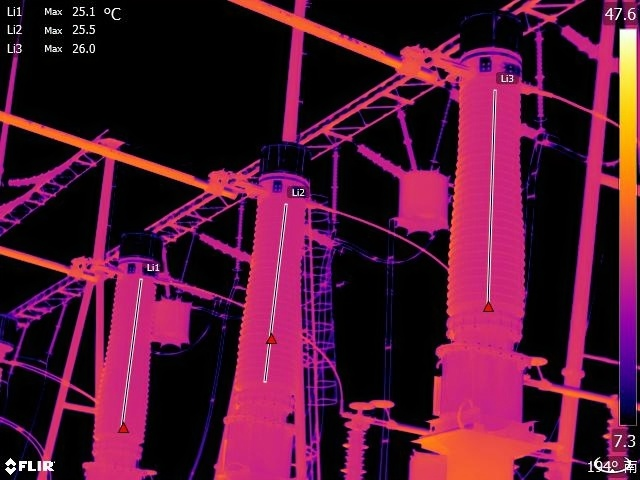current transformer: (425, 5, 532, 437), (206, 127, 321, 480), (79, 217, 171, 480)
insulator: (5, 157, 75, 188), (193, 231, 255, 264), (358, 140, 404, 177), (397, 107, 420, 174), (561, 22, 601, 60), (326, 149, 345, 223), (533, 27, 547, 124), (171, 278, 221, 302)
wave trap: (388, 156, 455, 241), (147, 282, 206, 352)
